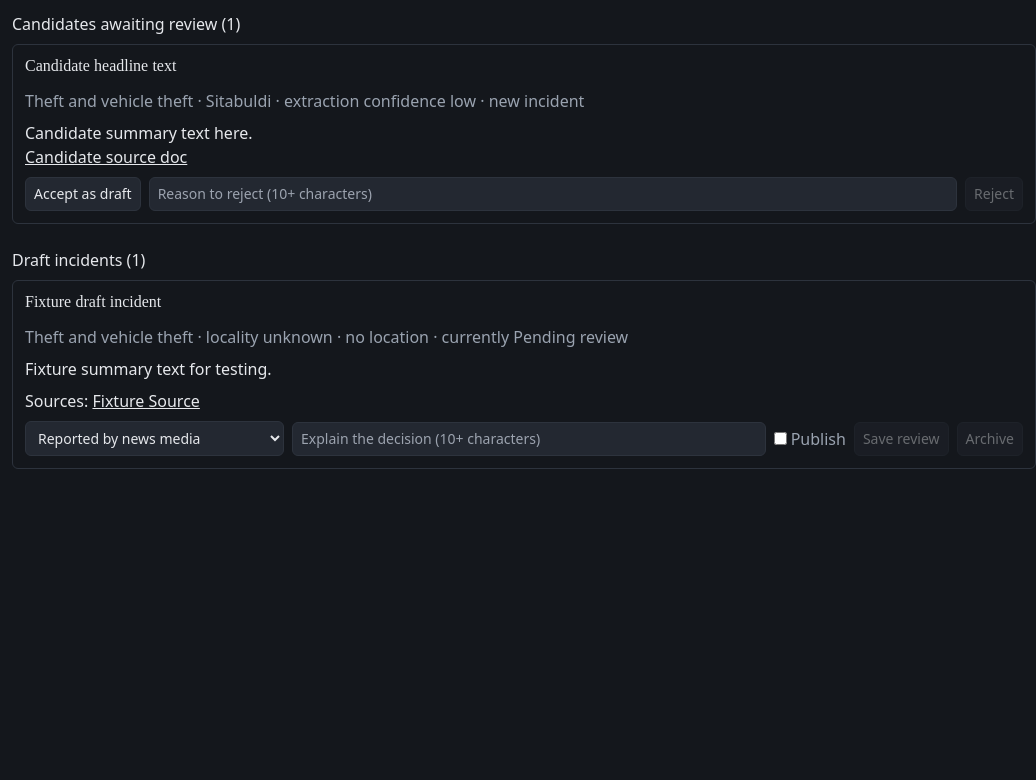
Test: ReviewQueue › turns a duplicate warning into an explicit merge decision
Click the button "Accept as draft".
click(83, 194)  # box [25,177,141,211]
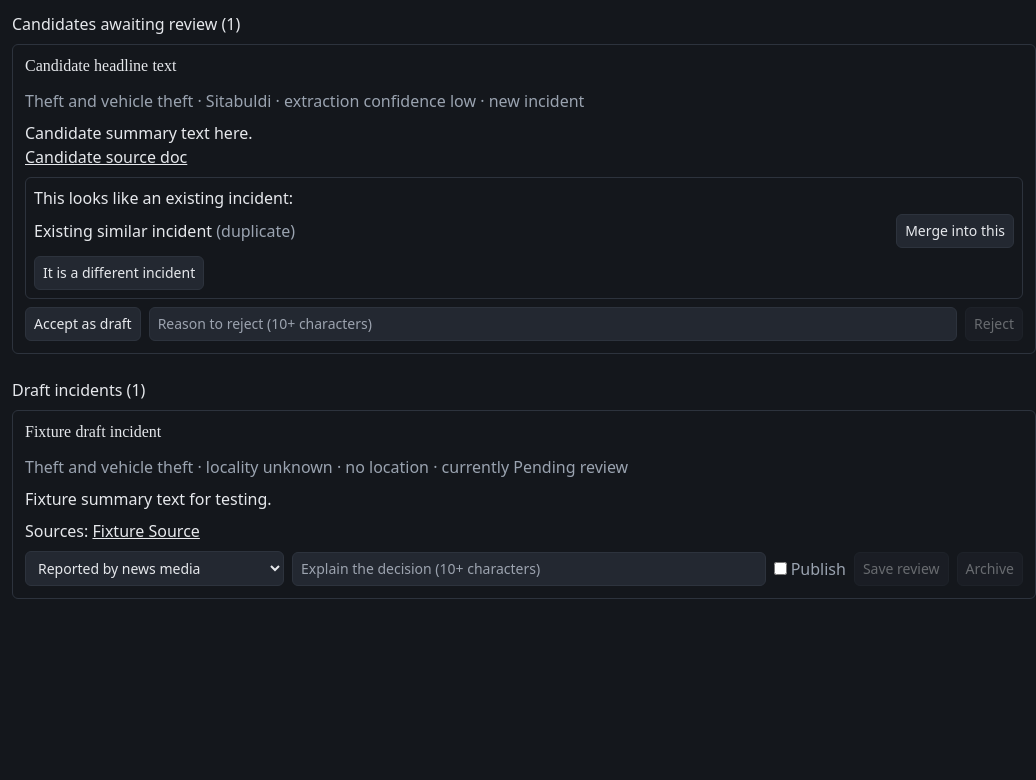
Check: the text "Existing similar incident" is shown, box [34,220,212,242]
Click the button "Merge into this".
click(955, 231)  # box [896,214,1014,248]
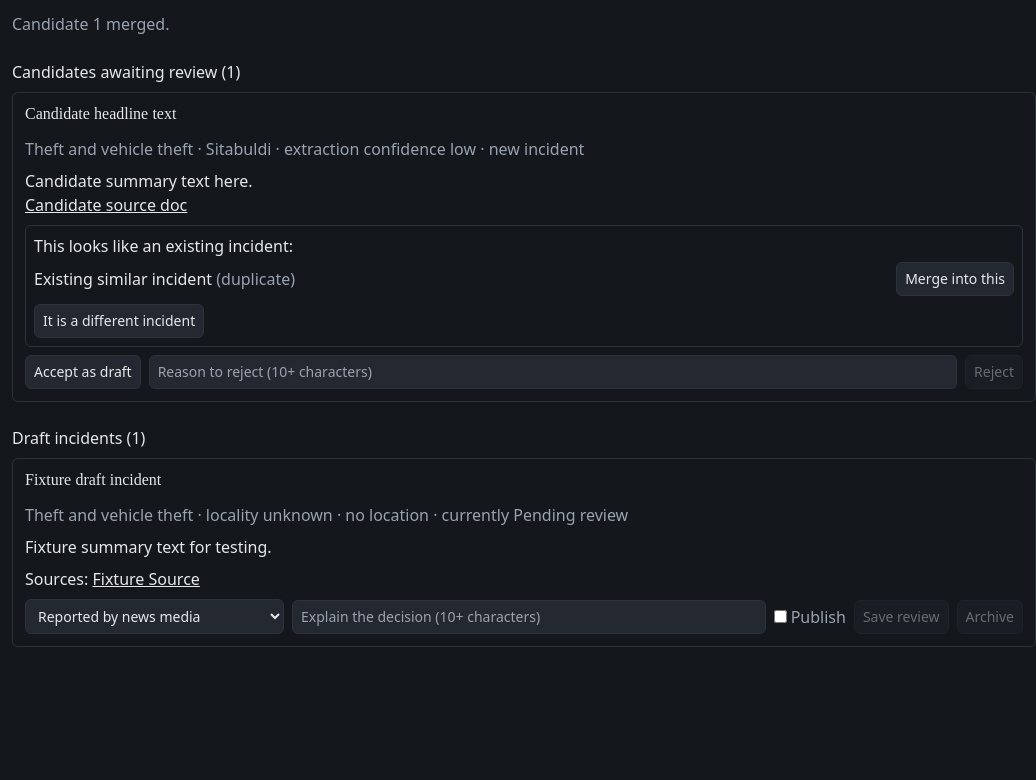
Check: the text "Candidate 1 merged." is shown, box [12,13,170,35]
